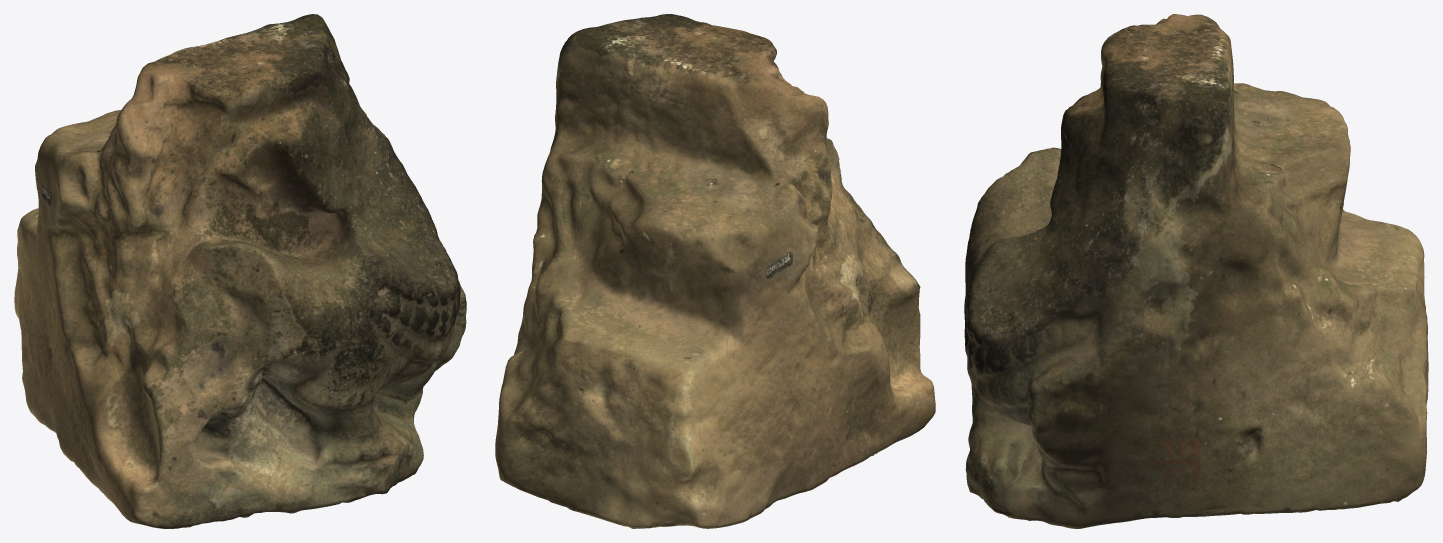
The model's file is 30_MysonSanctuaryD2_Sutuvoi_final.glb.
3 views of the same model, side by side, from view 1: azimuth 30°, elevation 25°; view 2: azimuth 150°, elevation 25°; view 3: azimuth 270°, elevation 25° (orthographic). The views are drawn at different scales.
Bounding box in the file's own units: 0.3892 × 0.4272 × 0.4295.
Materials: 1 (1 with a texture image).
